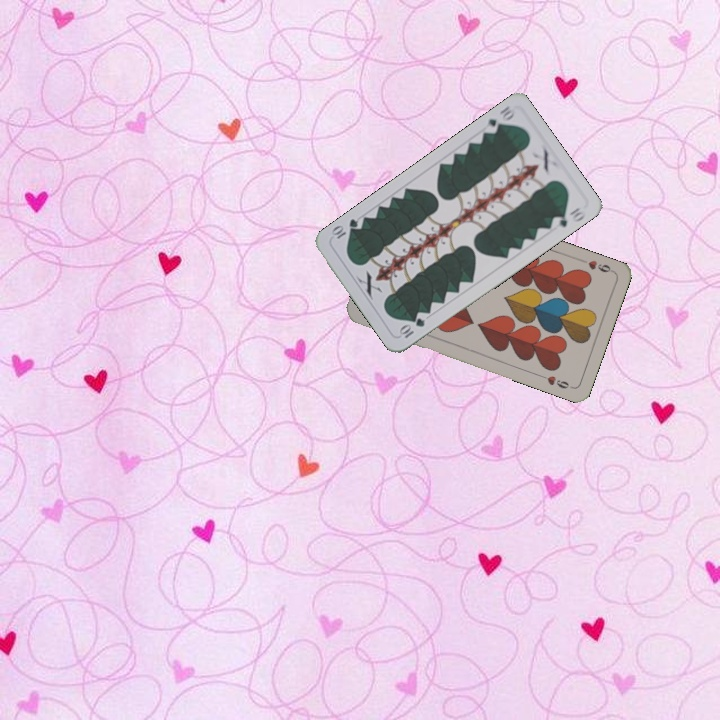G10: (480, 102, 517, 137), (395, 314, 427, 341)
H9: (577, 255, 616, 275)
